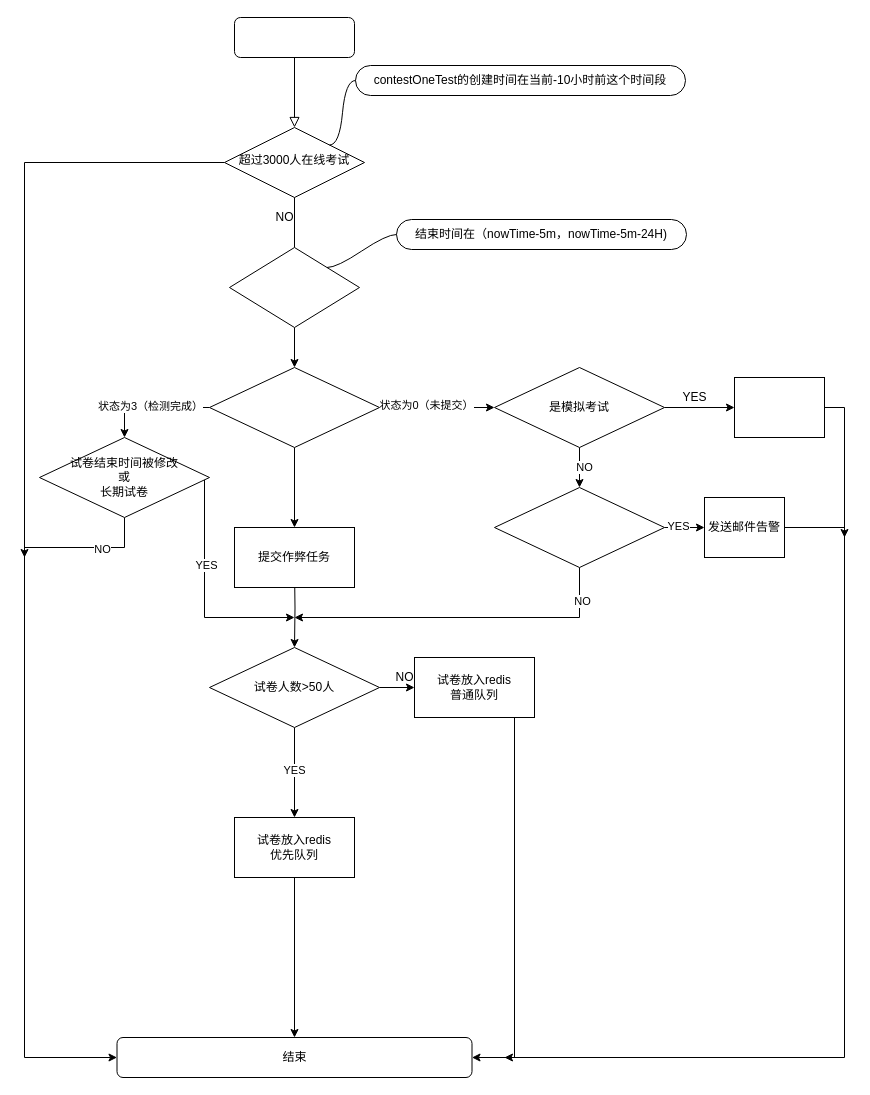
Some shapes in this 870 by 1095 pixel diagram are drawn without their labels. Here are the shapes that lost their labels. From the top down, the centre of each, then its label:
At [294,37]: "开始".
At [294,287]: "获取试卷".
At [294,407]: "查询redis中该试卷的 作弊任务状态".
At [779,407]: "更新redis 作弊状态为成功".
At [579,527]: "该试卷是否有未提交 或判题未完成的考试".
